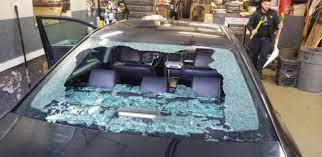Rear-windscreen-Damage: (34, 43, 264, 145)
